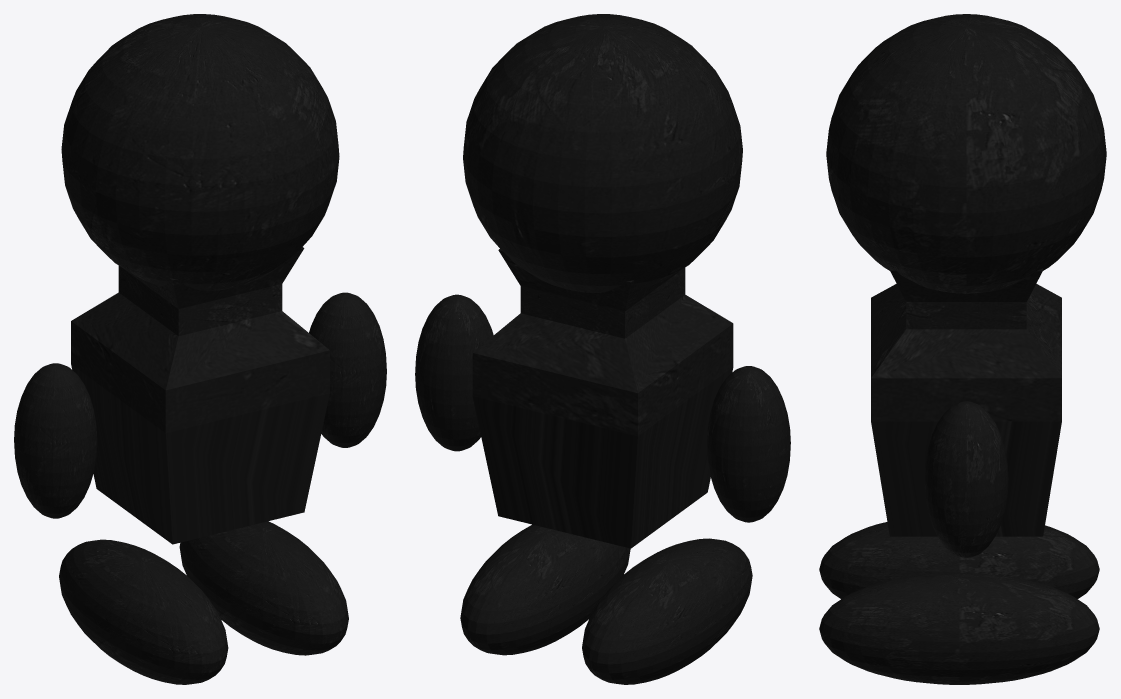
File: enemy.obj
3 views of the same model, side by side, from view 1: azimuth 30°, elevation 25°; view 2: azimuth 150°, elevation 25°; view 3: azimuth 270°, elevation 25° (orthographic).
Parts seen in each view (by area): view 1: 球, 立方体_立方体.002, 球.002, 球.003, 球.001, 球.004; view 2: 球, 立方体_立方体.002, 球.002, 球.003, 球.001, 球.004; view 3: 球, 立方体_立方体.002, 球.003, 球.002, 球.004.
Part boxes in pixels (x1=…): 球: x1=61, y1=14, x2=339, y2=290; 立方体_立方体.002: x1=71, y1=247, x2=329, y2=544; 球.002: x1=59, y1=539, x2=228, y2=684; 球.003: x1=179, y1=521, x2=348, y2=655; 球.001: x1=14, y1=363, x2=97, y2=518; 球.004: x1=309, y1=292, x2=386, y2=447; 球: x1=463, y1=14, x2=742, y2=292; 立方体_立方体.002: x1=472, y1=249, x2=733, y2=548; 球.002: x1=582, y1=538, x2=752, y2=684; 球.003: x1=460, y1=524, x2=630, y2=655; 球.001: x1=707, y1=366, x2=790, y2=522; 球.004: x1=415, y1=294, x2=493, y2=451; 球: x1=826, y1=14, x2=1106, y2=293; 立方体_立方体.002: x1=871, y1=268, x2=1061, y2=536; 球.003: x1=819, y1=573, x2=1099, y2=684; 球.002: x1=819, y1=522, x2=1099, y2=598; 球.004: x1=924, y1=401, x2=1008, y2=557.
Bounding box in the file's own units: 3 × 4.9 × 2.05.
